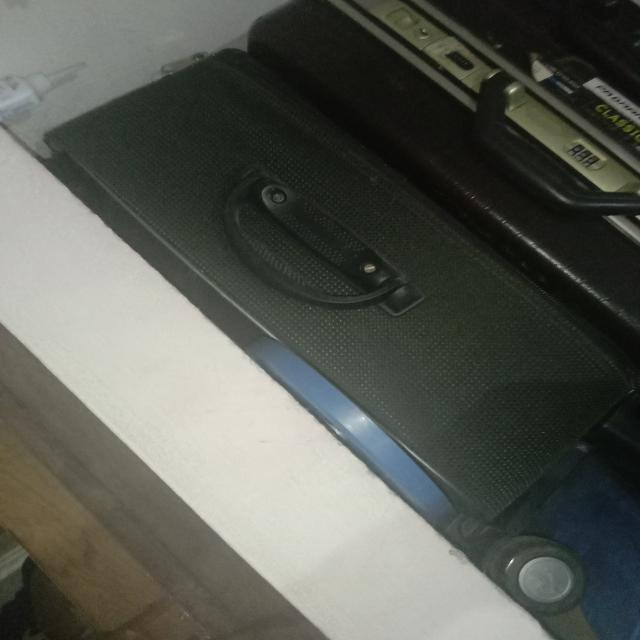suitcaserotation: (35, 42, 640, 619), (241, 1, 640, 340)
